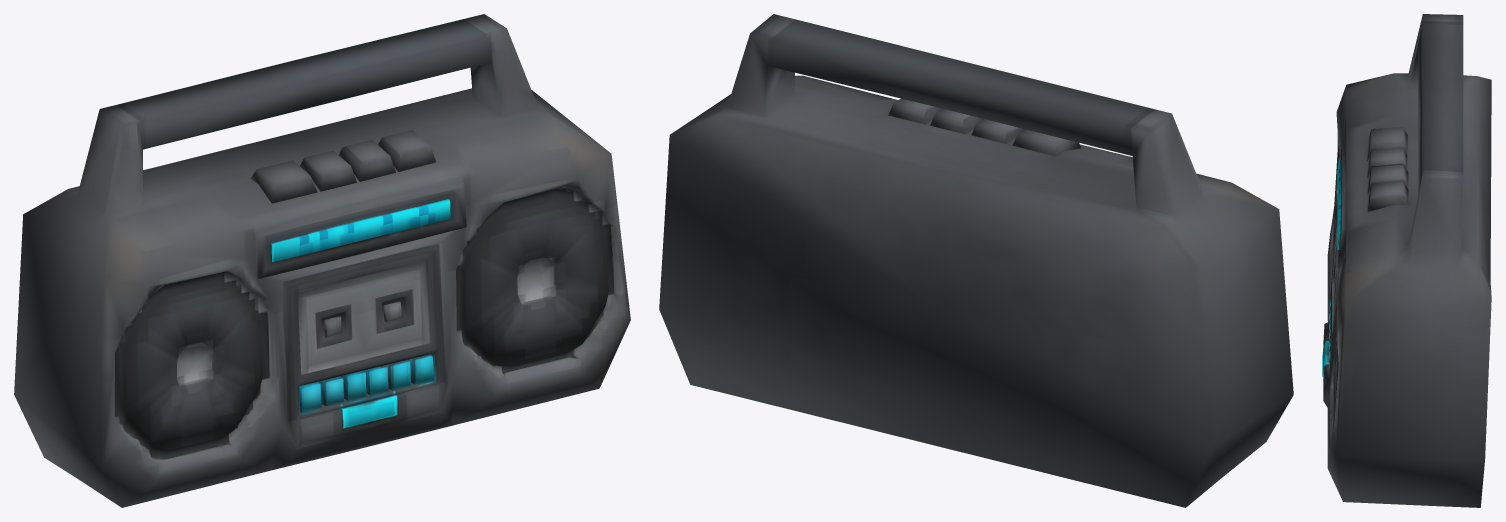
The model's file is tripo_convert_89988ed4-e7ea-43fb-8d3b-7ac3262ed724.glb.
3 renders of one model, left to right at view 1: azimuth 30°, elevation 25°; view 2: azimuth 150°, elevation 25°; view 3: azimuth 270°, elevation 25°, orthographic. The views are drawn at different scales.
Visible parts, largest first — view 1: tripo_node_89988ed4-e7ea-43fb-8d3b-7ac3262ed724; view 2: tripo_node_89988ed4-e7ea-43fb-8d3b-7ac3262ed724; view 3: tripo_node_89988ed4-e7ea-43fb-8d3b-7ac3262ed724.
Boxes of the visible parts, x1,y1,x2,y2 form: tripo_node_89988ed4-e7ea-43fb-8d3b-7ac3262ed724: (14,14,630,507); tripo_node_89988ed4-e7ea-43fb-8d3b-7ac3262ed724: (659,14,1293,507); tripo_node_89988ed4-e7ea-43fb-8d3b-7ac3262ed724: (1322,14,1491,507).
Bounding box in the file's own units: 0.998 × 0.6113 × 0.3027.
Materials: 1 (1 with a texture image).
